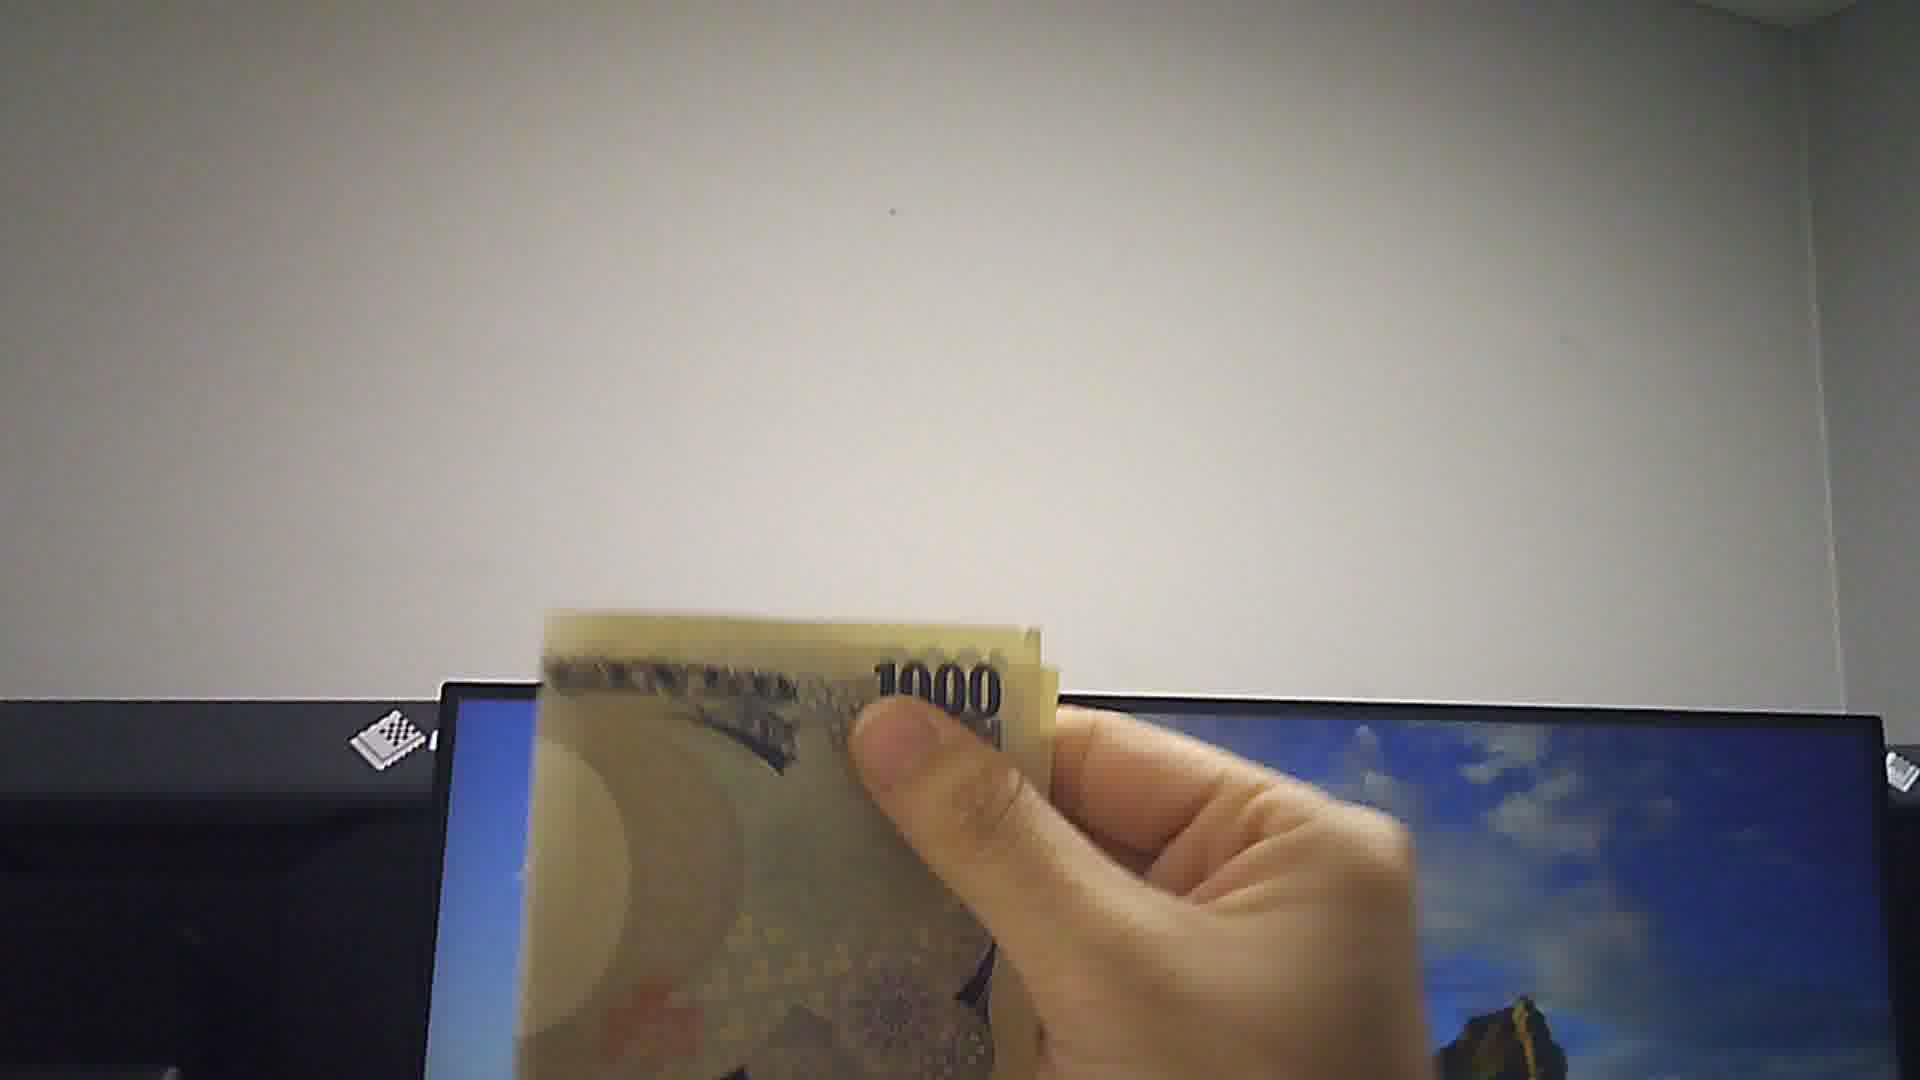1,000 Yen: (516, 595, 1060, 1075)
